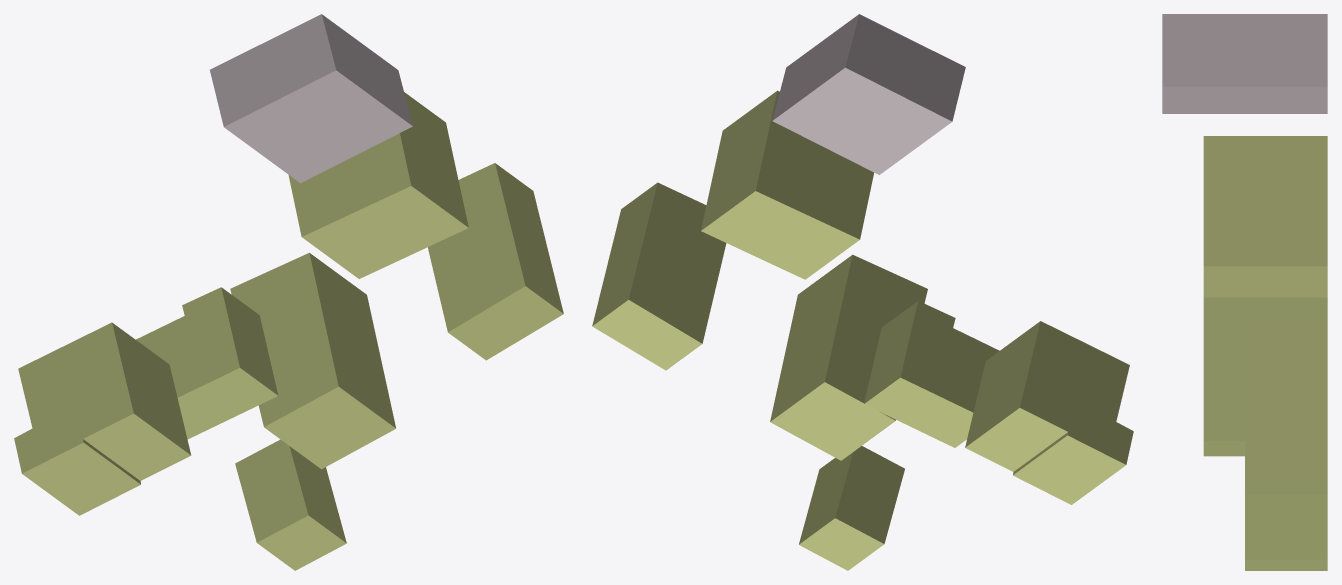
The picture shows the model from 3 angles, left to right: view 1: azimuth 30°, elevation 25°; view 2: azimuth 150°, elevation 25°; view 3: azimuth 270°, elevation 25°; orthographic projection. The views are drawn at different scales.
Visible parts, largest first — view 1: 0_1_2_0_3_3_0_3_2; view 2: 0_1_2_0_3_3_0_3_2; view 3: 0_1_2_0_3_3_0_3_2.
Boxes of the visible parts, x1,y1,x2,y2 form: 0_1_2_0_3_3_0_3_2: (14, 14, 563, 570); 0_1_2_0_3_3_0_3_2: (592, 14, 1133, 570); 0_1_2_0_3_3_0_3_2: (1162, 14, 1327, 570).
Bounding box in the file's own units: 46.17 × 44.26 × 12.
